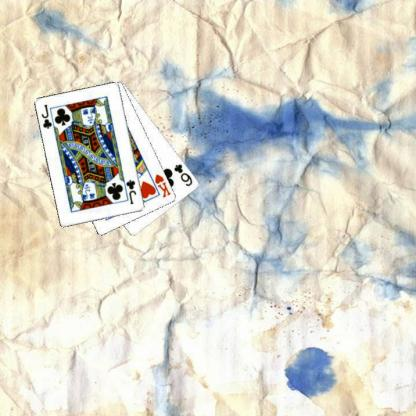6C: (171, 162, 194, 188)
JC: (124, 177, 138, 206), (39, 102, 53, 130)
KH: (152, 171, 172, 199)
